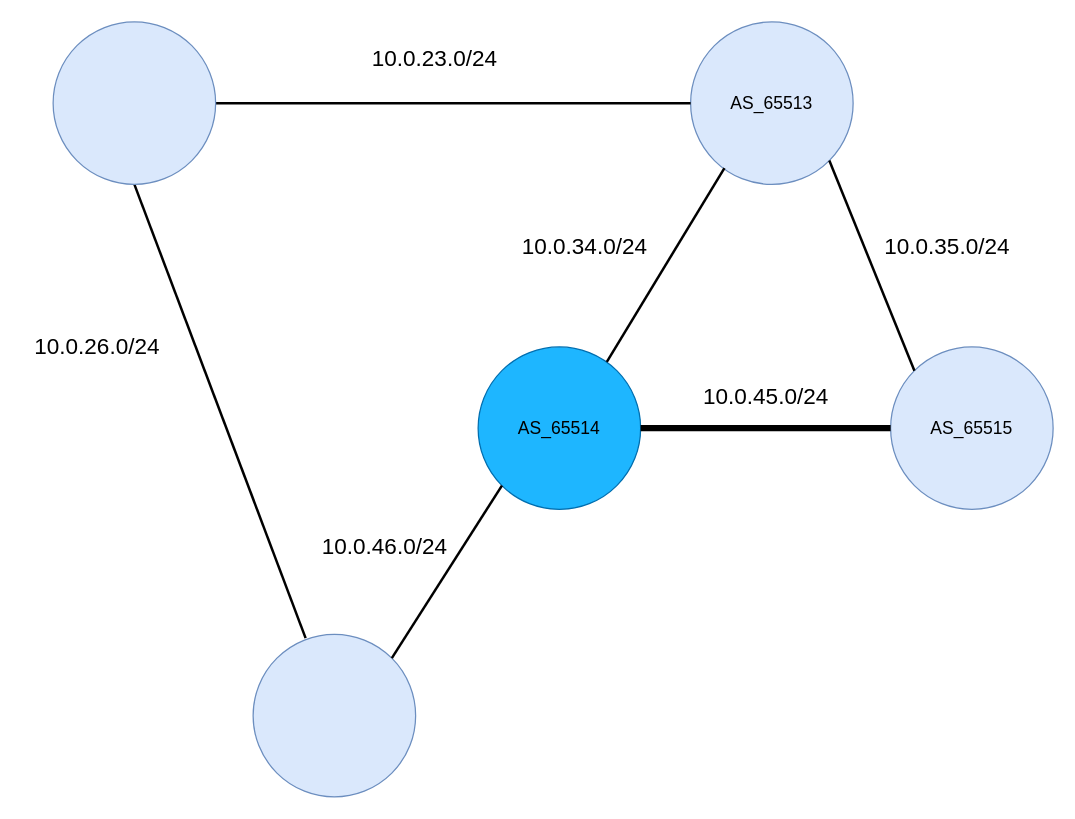
Some shapes in this 1075 by 819 pixel diagram are drawn without their labels. Each missing label, with the centre of its shape:
"AS_65512" goes at point 134,102.
"AS_65516" goes at point 334,715.
